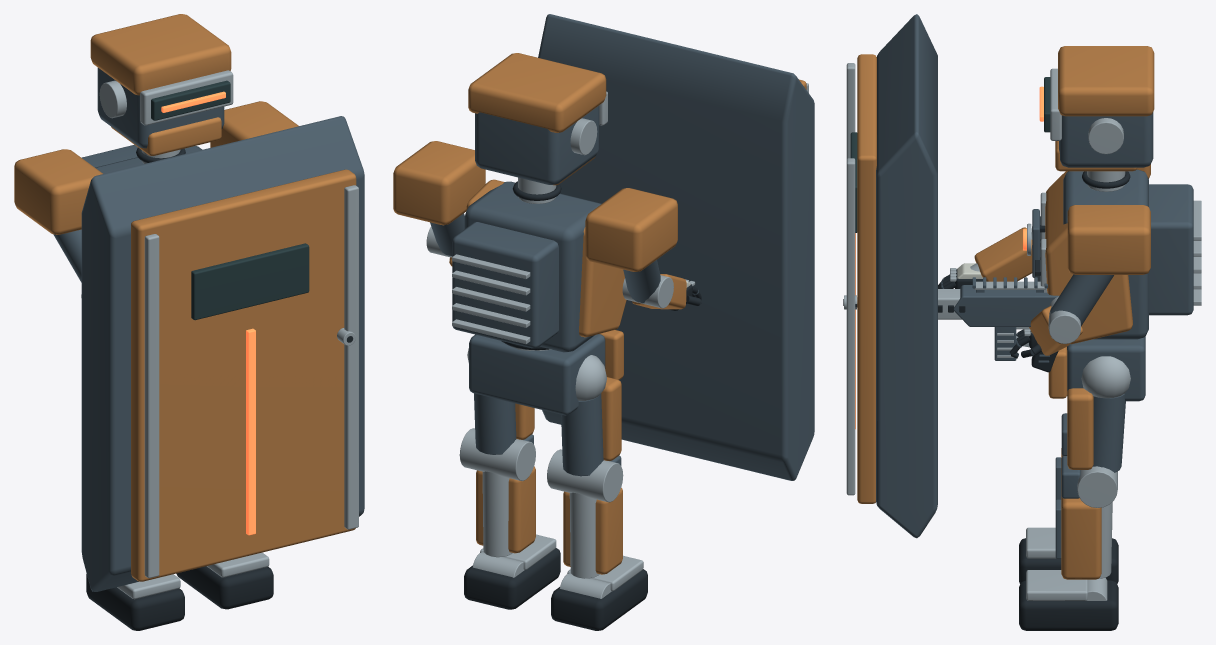
The model's file is robot-shield-v04.glb.
3 views of the same model, side by side, from view 1: azimuth 30°, elevation 25°; view 2: azimuth 150°, elevation 25°; view 3: azimuth 270°, elevation 25° (orthographic). The views are drawn at different scales.
Parts seen in each view (by area): view 1: shield_visual / Ochre armour, shield_visual / Cerakote midnight, shield_visual / Titanium, head / Ochre armour, shield_visual / Optical glass, arm_L / Ochre armour, shin_L / Elastomer, shin_R / Elastomer, head / Titanium, head / Cerakote midnight, arm_R / Ochre armour, shield_visual / Hostile optics (+5 smaller); view 2: shield_visual / Cerakote midnight, torso / Cerakote midnight, head / Ochre armour, hips / Cerakote midnight, arm_L / Ochre armour, head / Cerakote midnight, arm_R / Ochre armour, shin_R / Titanium, shin_L / Titanium, torso / Ochre armour, torso / Titanium, shin_R / Elastomer (+16 smaller); view 3: shield_visual / Cerakote midnight, torso / Cerakote midnight, shield_visual / Ochre armour, head / Ochre armour, arm_R / Ochre armour, torso / Ochre armour, shield_visual / Titanium, head / Cerakote midnight, integrated_enemy_weapon / Cerakote midnight, shin_R / Elastomer, shin_R / Ochre armour, shin_R / Titanium (+19 smaller).
Boxes of the visible parts, x1,y1,x2,y2 form: shield_visual / Ochre armour: (131,169,356,581); shield_visual / Cerakote midnight: (81,116,364,591); shield_visual / Titanium: (144,185,358,578); head / Ochre armour: (90,14,231,155); shield_visual / Optical glass: (191,243,309,320); arm_L / Ochre armour: (14,149,102,234); shin_L / Elastomer: (86,574,184,630); shin_R / Elastomer: (176,566,273,609); head / Titanium: (99,70,233,125); head / Cerakote midnight: (97,67,224,148); arm_R / Ochre armour: (210,101,298,147); shield_visual / Hostile optics: (246,328,255,535); shield_visual / Cerakote midnight: (538,14,814,480); torso / Cerakote midnight: (452,181,601,352); head / Ochre armour: (468,53,606,185); hips / Cerakote midnight: (469,334,605,415); arm_L / Ochre armour: (585,188,677,271); head / Cerakote midnight: (475,105,599,184); arm_R / Ochre armour: (393,141,485,225); shin_R / Titanium: (472,471,556,577); shin_L / Titanium: (559,492,643,598); torso / Ochre armour: (466,179,626,337); torso / Titanium: (452,254,530,344); shin_R / Elastomer: (464,548,560,609); shield_visual / Cerakote midnight: (876,14,937,538); torso / Cerakote midnight: (1032,169,1193,339); shield_visual / Ochre armour: (857,54,876,503); head / Ochre armour: (1055,46,1154,171); arm_R / Ochre armour: (1067,205,1150,274); torso / Ochre armour: (1045,171,1132,344); shield_visual / Titanium: (846,63,855,495); head / Cerakote midnight: (1059,112,1153,167); integrated_enemy_weapon / Cerakote midnight: (954,277,1059,326); shin_R / Elastomer: (1019,580,1118,630); shin_R / Ochre armour: (1061,491,1101,579); shin_R / Titanium: (1026,502,1112,600).
Bounding box in the file's own units: 0.967 × 1.71 × 1.04.
